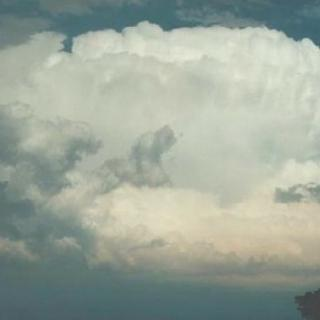Cumulonimbus: (0, 2, 320, 287)
